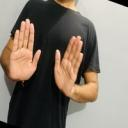hand: (7, 18, 41, 81), (53, 35, 83, 97)
